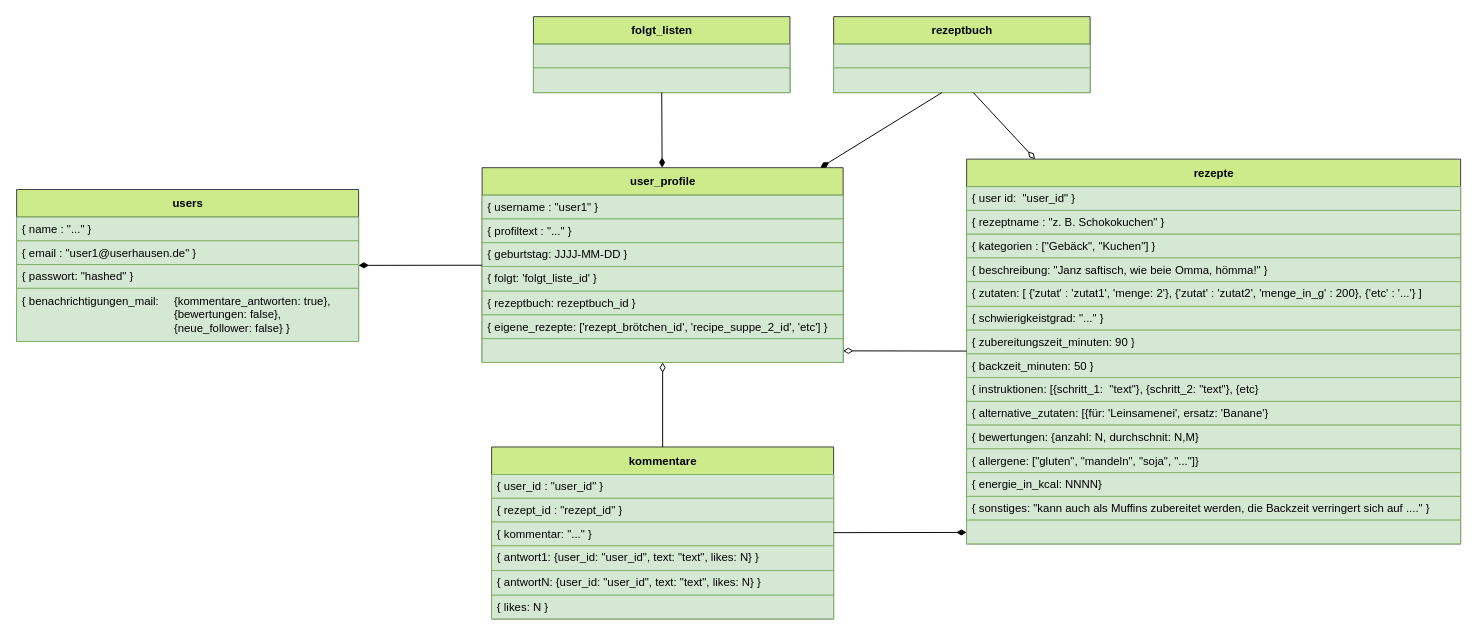
The diagram is 1477 pixels wide and 636 high, and some of its shapes have lost their labels. Here are the shapes that lost their labels. From the top down, the centre of each, then its label:
pixel 661 55: { user id : "user1_id" }
pixel 961 55: { user id : "referenced id" }
pixel 661 80: { folgt: ['user2_id', 'user3_id', 'etc']}
pixel 961 80: { recipes: ['recipe1_id', 'recipe2_id', 'etc'] }
pixel 662 350: {social_links: [ { facebook : 'url', pinterest: 'url' } ] }
pixel 1213 531: { kommentare : "kommentare_id" }
